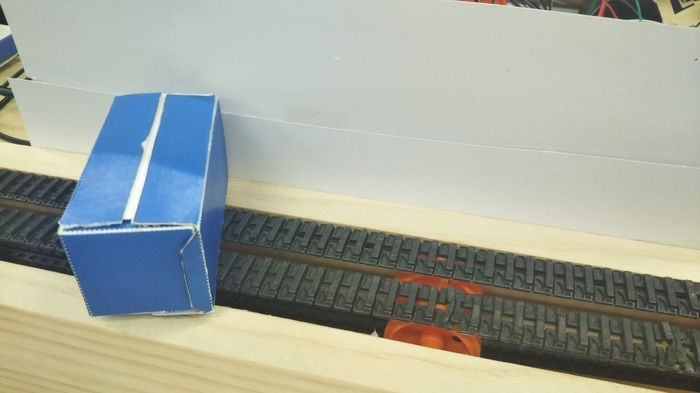box3: (55, 90, 229, 317)
